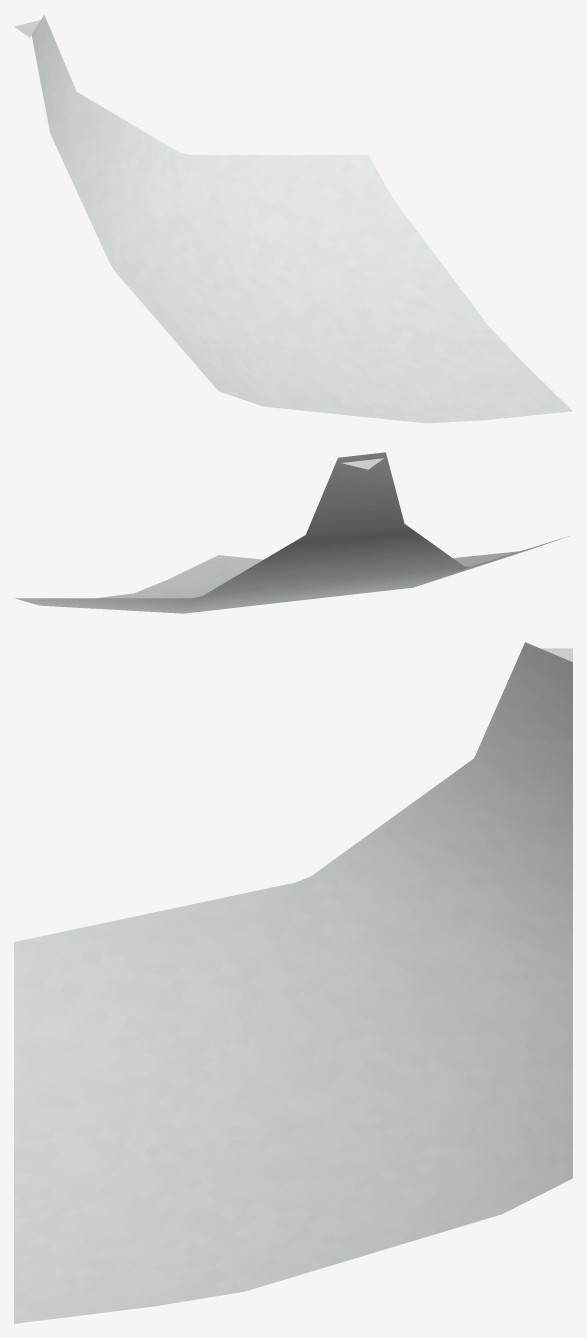
Rendered from bowl_medium_0_1_1.obj.
The picture shows the model from 3 angles, top to bottom: view 1: azimuth 30°, elevation 25°; view 2: azimuth 150°, elevation 25°; view 3: azimuth 270°, elevation 25°; orthographic projection. The views are drawn at different scales.
Parts seen in each view (by area): view 1: bowl_medium_0_1_1; view 2: bowl_medium_0_1_1; view 3: bowl_medium_0_1_1.
Boxes of the visible parts, x1,y1,x2,y2 form: bowl_medium_0_1_1: (14,15,572,423); bowl_medium_0_1_1: (15,452,569,613); bowl_medium_0_1_1: (14,642,572,1323).
Size of the model in its own units: 3 by 2.64 by 3.
